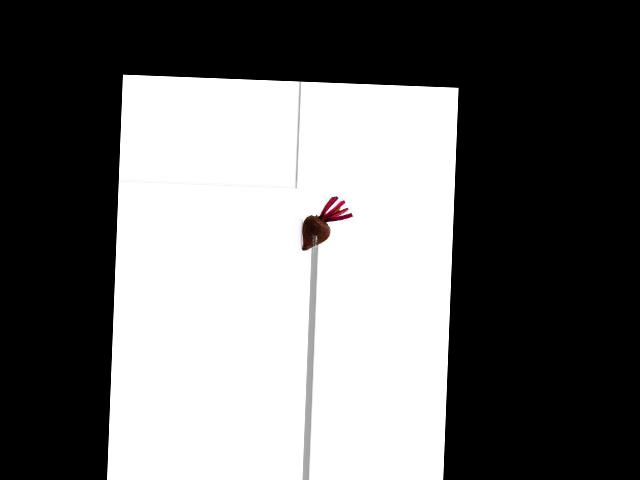beet: (301, 195, 353, 252)
